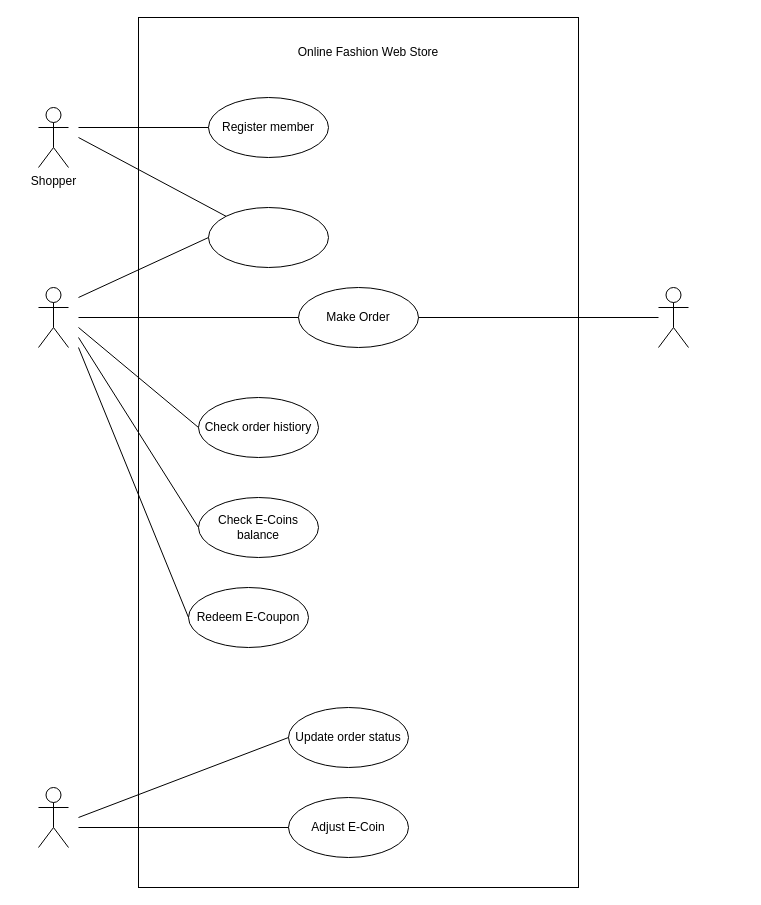
Image size: 761x905. Some labels were removed from this diagram. The centre of each missing label's shape, as x and y in pixels:
"External payment gateway" goes at pixel 673 317.
"Member" goes at pixel 53 317.
"Staff member" goes at pixel 53 817.
"View clothes" goes at pixel 268 237.
